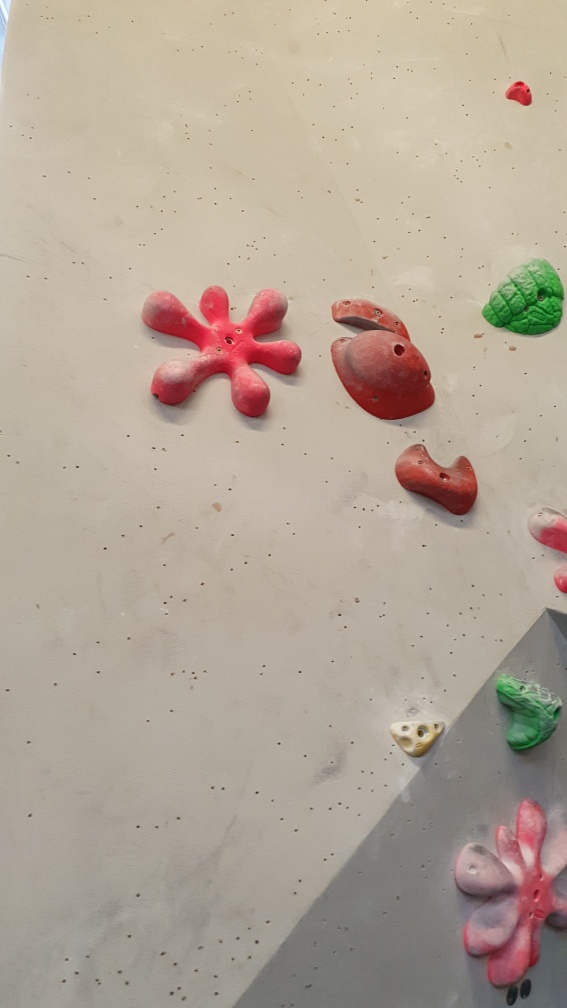Octopus Pinch: (137, 283, 307, 425), (445, 795, 567, 980)
